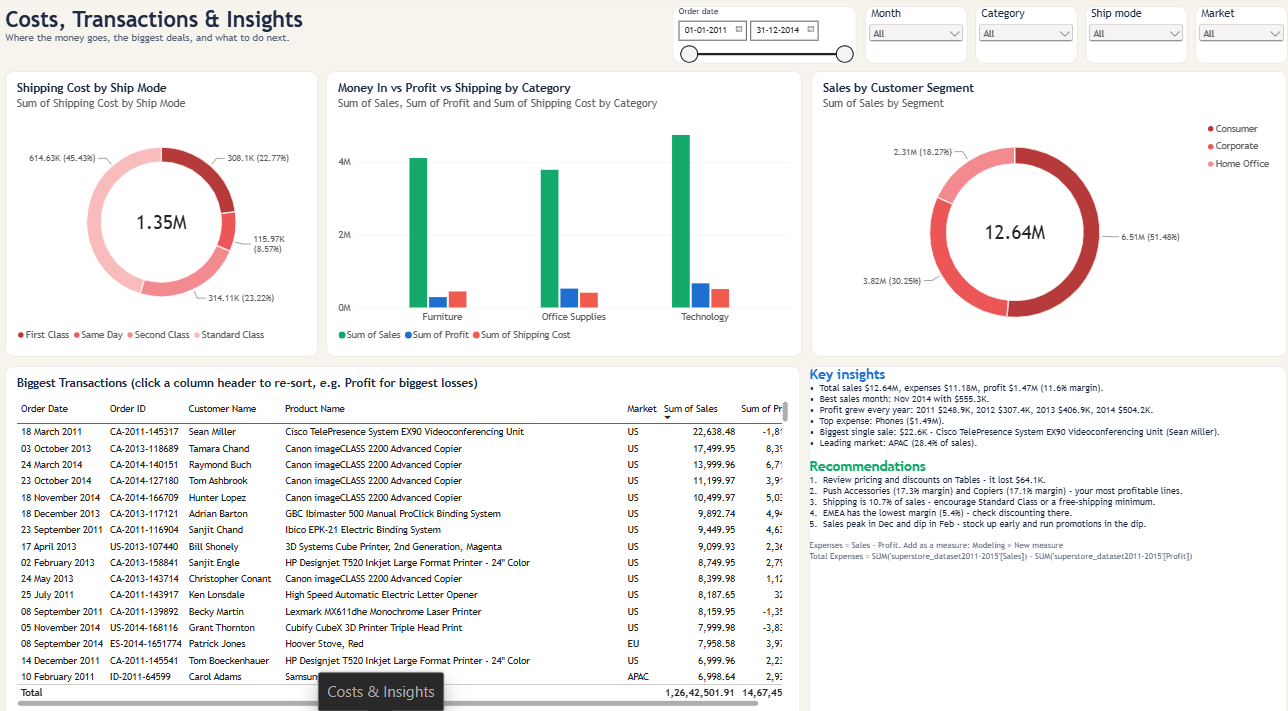

What the dashboard file says about the page in this screenshot:
{"tool":"powerbi","page":{"name":"Costs & Insights","canvas":[1920,1080],"ordinal":1},"visuals":[{"type":"textbox","box":[16,16,970,84],"z":0},{"type":"slicer","fields":{"Values":["superstore_dataset2011-2015.Order Date"]},"box":[1000,16,270,84],"z":1000},{"type":"slicer","fields":{"Values":["superstore_dataset2011-2015.Order Date.Variation.Date Hierarchy.Month"]},"box":[1282,16,150,84],"z":2000},{"type":"slicer","fields":{"Values":["superstore_dataset2011-2015.Category"]},"box":[1444,16,150,84],"z":3000},{"type":"slicer","fields":{"Values":["superstore_dataset2011-2015.Ship Mode"]},"box":[1606,16,150,84],"z":4000},{"type":"slicer","fields":{"Values":["superstore_dataset2011-2015.Market"]},"box":[1768,16,136,84],"z":5000},{"type":"donutChart","title":"Shipping Cost by Ship Mode","fields":{"Category":["superstore_dataset2011-2015.Ship Mode"],"Y":["Sum(superstore_dataset2011-2015.Shipping Cost)"]},"box":[16,112,460,420],"z":6000},{"type":"clusteredColumnChart","title":"Money In vs Profit vs Shipping by Category","fields":{"Category":["superstore_dataset2011-2015.Category"],"Y":["Sum(superstore_dataset2011-2015.Sales)","Sum(superstore_dataset2011-2015.Profit)","Sum(superstore_dataset2011-2015.Shipping Cost)"]},"box":[490,112,700,420],"z":7000},{"type":"donutChart","title":"Sales by Customer Segment","fields":{"Category":["superstore_dataset2011-2015.Segment"],"Y":["Sum(superstore_dataset2011-2015.Sales)"]},"box":[1204,112,700,420],"z":8000},{"type":"tableEx","title":"Biggest Transactions  (click a column header to re-sort, e.g. Profit for biggest losses)","fields":{"Values":["superstore_dataset2011-2015.Order Date","superstore_dataset2011-2015.Order ID","superstore_dataset2011-2015.Customer Name","superstore_dataset2011-2015.Product Name","superstore_dataset2011-2015.Market","Sum(superstore_dataset2011-2015.Sales)","Sum(superstore_dataset2011-2015.Profit)"]},"box":[16,546,1170,518],"z":9000},{"type":"textbox","box":[1200,546,704,518],"z":10000}]}

Visuals, with their boxes in screenshot pixels (x1, y1, x2, y2), scaled from the page's 1920x1080 canvas onto the 1288x711 screenshot:
textbox: {"x1": 11, "y1": 11, "x2": 661, "y2": 66}
slicer - superstore_dataset2011-2015.Order Date: {"x1": 671, "y1": 11, "x2": 852, "y2": 66}
slicer - superstore_dataset2011-2015.Order Date.Variation.Date Hierarchy.Month: {"x1": 860, "y1": 11, "x2": 961, "y2": 66}
slicer - superstore_dataset2011-2015.Category: {"x1": 969, "y1": 11, "x2": 1069, "y2": 66}
slicer - superstore_dataset2011-2015.Ship Mode: {"x1": 1077, "y1": 11, "x2": 1178, "y2": 66}
slicer - superstore_dataset2011-2015.Market: {"x1": 1186, "y1": 11, "x2": 1277, "y2": 66}
"Shipping Cost by Ship Mode" donutChart: {"x1": 11, "y1": 74, "x2": 319, "y2": 350}
"Money In vs Profit vs Shipping by Category" clusteredColumnChart: {"x1": 329, "y1": 74, "x2": 798, "y2": 350}
"Sales by Customer Segment" donutChart: {"x1": 808, "y1": 74, "x2": 1277, "y2": 350}
"Biggest Transactions  (click a column header to re-sort, e.g. Profit for biggest losses)" tableEx: {"x1": 11, "y1": 359, "x2": 796, "y2": 700}
textbox: {"x1": 805, "y1": 359, "x2": 1277, "y2": 700}
